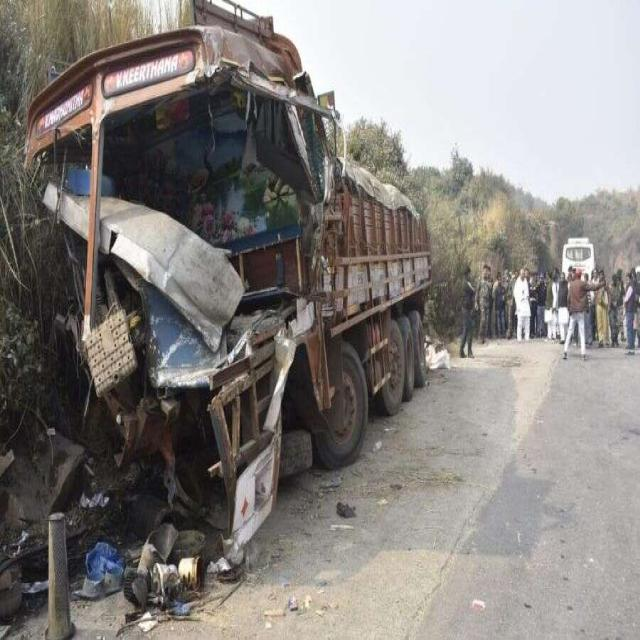accident: (26, 0, 431, 608)
